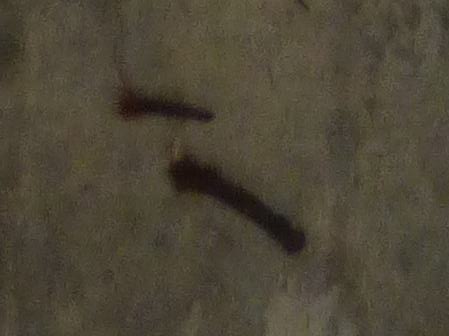Crack: (169, 157, 308, 253), (118, 94, 215, 125)
